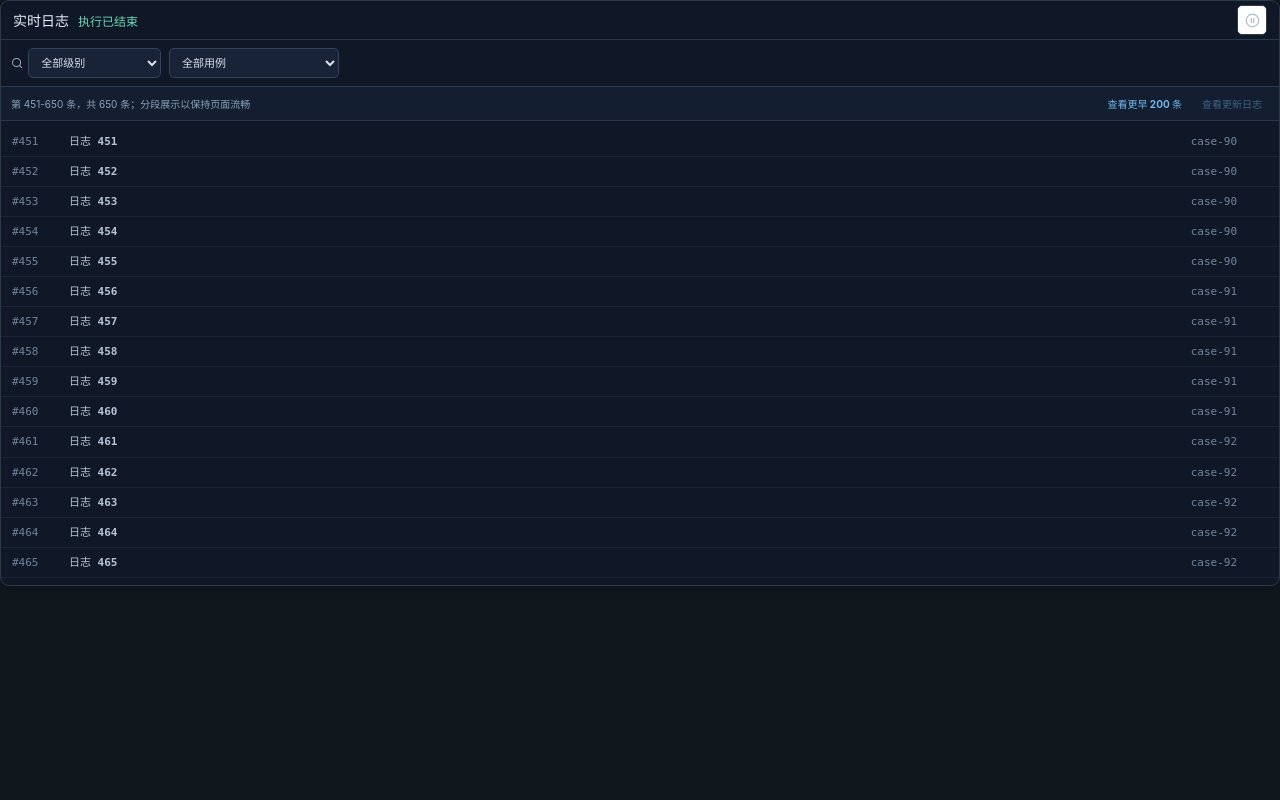
Scenario: ExecutionLog › renders a bounded latest window for a large history and lets the user move through earlier events
Click the button with test id "log-window-older" at (1145, 104), box [1100, 90, 1189, 116]
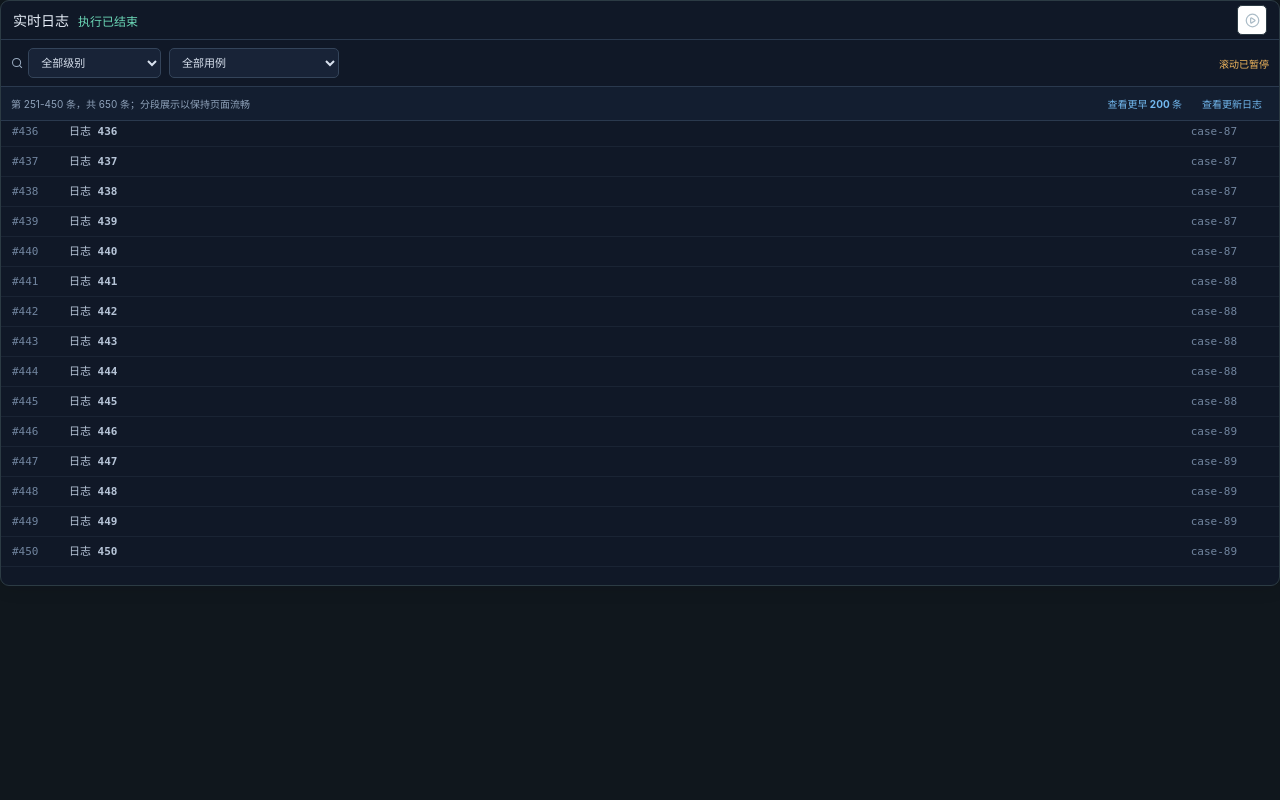
Result: the text "第 251-450 条，共 650 条" is shown at [11, 98, 250, 110]
